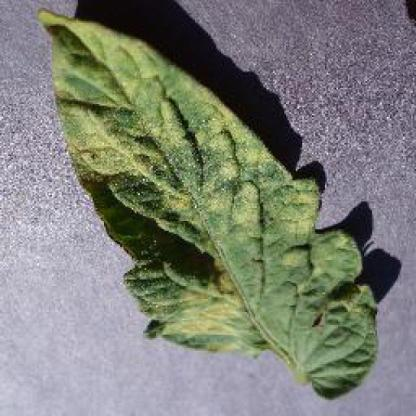Tomato_Leaf_Mold: (31, 9, 377, 398)
